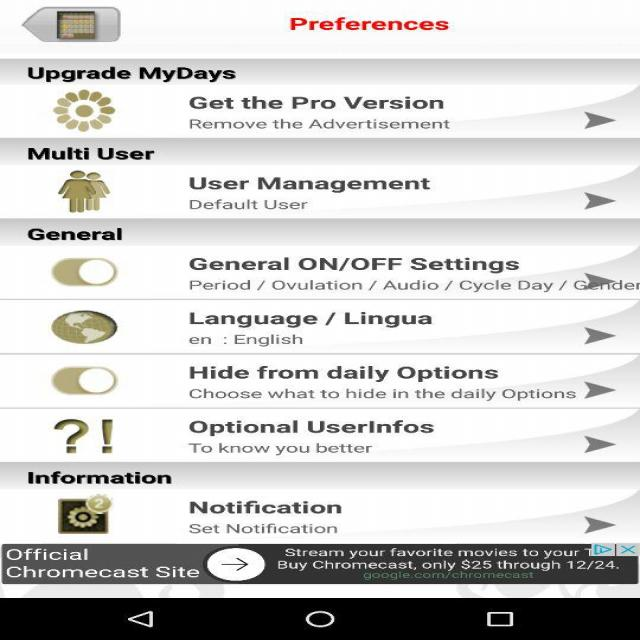button: (0, 57, 640, 141), (0, 216, 640, 296), (0, 464, 639, 543), (4, 144, 640, 218), (0, 356, 640, 410), (2, 298, 640, 352), (0, 411, 640, 461), (0, 547, 635, 585), (0, 3, 156, 43), (614, 543, 639, 555)
icon: (0, 86, 134, 141), (17, 360, 142, 400), (32, 247, 139, 290), (33, 494, 133, 539), (30, 314, 150, 351), (44, 169, 128, 215), (38, 416, 131, 456), (50, 10, 104, 40), (214, 552, 258, 584)
text: (182, 250, 640, 294), (169, 362, 581, 404), (170, 91, 466, 138), (172, 170, 456, 213), (283, 550, 631, 585), (178, 310, 464, 350), (166, 418, 446, 456), (220, 8, 502, 45), (154, 494, 372, 537), (7, 550, 203, 580), (32, 62, 262, 87)
